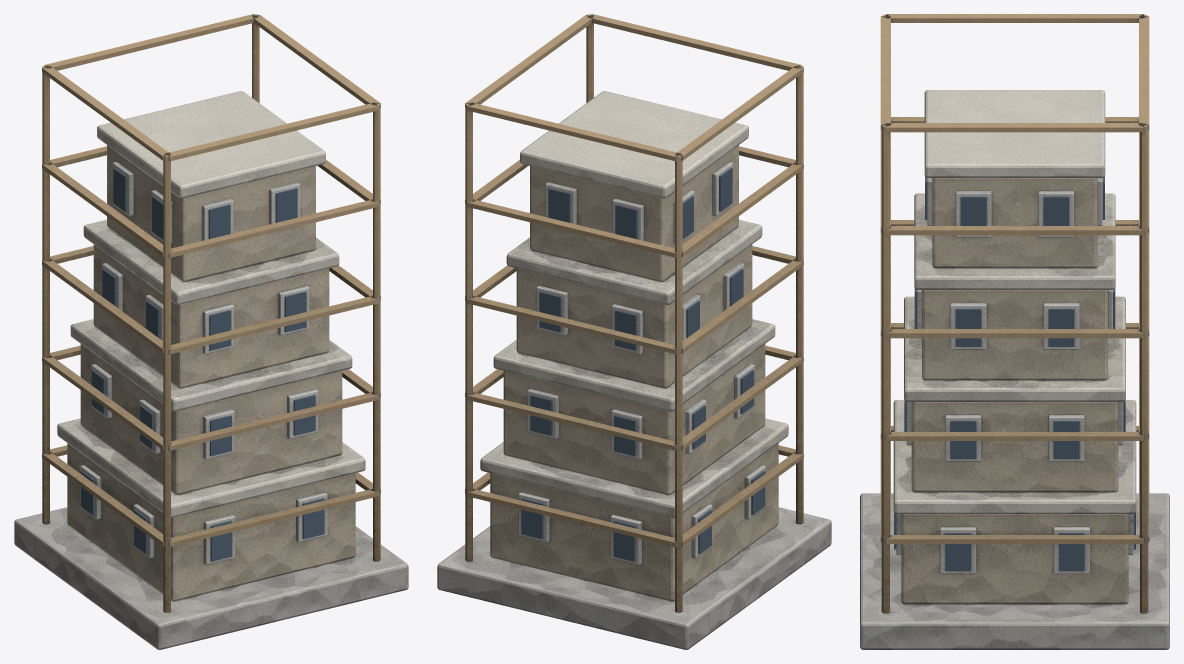
File: jahr4.glb
3 renders of one model, left to right at view 1: azimuth 30°, elevation 25°; view 2: azimuth 150°, elevation 25°; view 3: azimuth 270°, elevation 25°, orthographic. The views are drawn at different scales.
Parts seen in each view (by area): view 1: jahr4, jahr4_details; view 2: jahr4, jahr4_details; view 3: jahr4, jahr4_details.
Part boxes in pixels (box(x1,y1,x2,y2)): jahr4: box(14, 14, 408, 649); jahr4_details: box(80, 167, 324, 561); jahr4: box(437, 14, 831, 649); jahr4_details: box(521, 167, 765, 561); jahr4: box(860, 14, 1169, 649); jahr4_details: box(894, 176, 1135, 571).
Size of the model in its own units: 0.6 by 1.1 by 0.6.
Materials: 2 (1 with a texture image).
